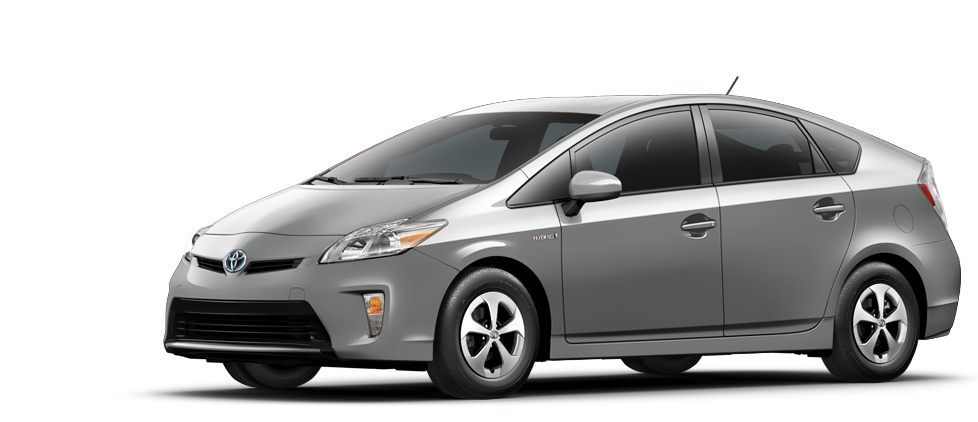front_view: (155, 76, 425, 172)
headlight: (161, 78, 266, 113)
side_glass: (34, 18, 115, 71)
